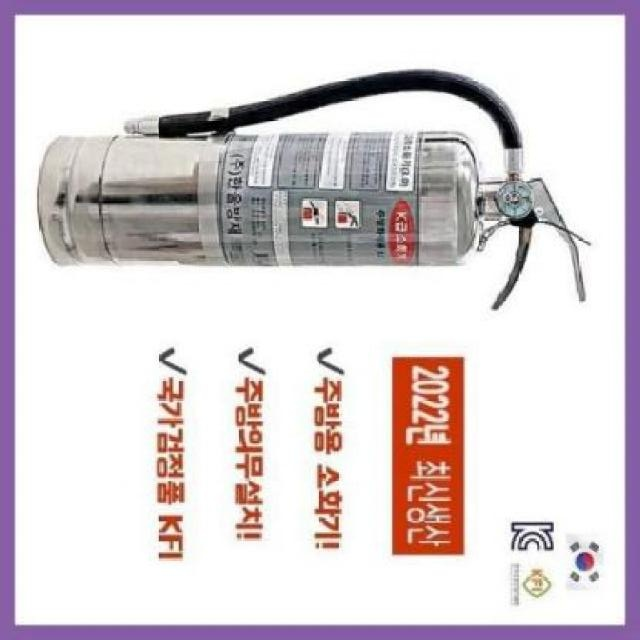fire extinguisher: (36, 67, 587, 311)
